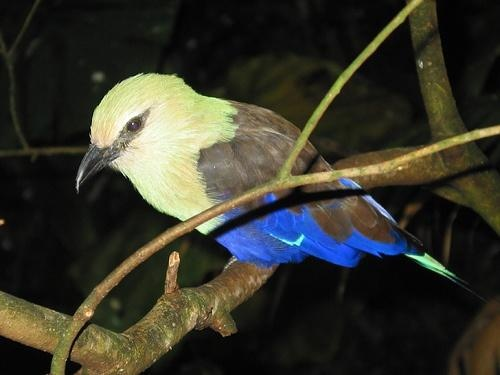bird: (76, 71, 491, 305)
